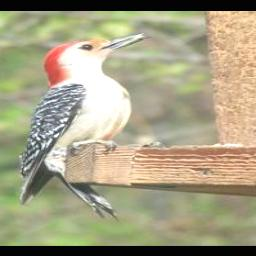Woodpecker: (21, 31, 154, 221)
